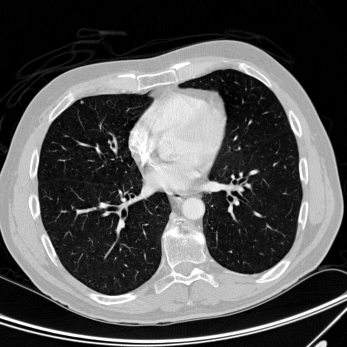nodule: (80, 100, 84, 104)
